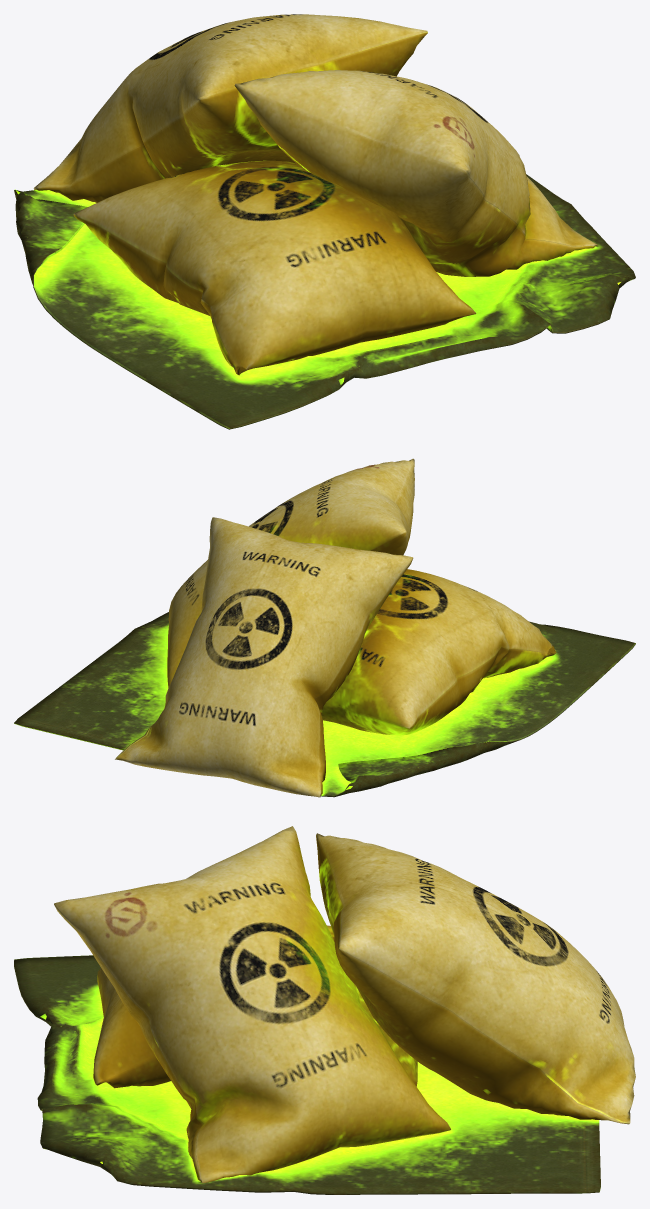
The model's file is toxic_waste.glb.
The picture shows the model from 3 angles, top to bottom: view 1: azimuth 30°, elevation 25°; view 2: azimuth 150°, elevation 25°; view 3: azimuth 270°, elevation 25°; orthographic projection. The views are drawn at different scales.
Visible parts, largest first — view 1: Object_2; view 2: Object_2; view 3: Object_2.
Part boxes in pixels (x1,y1,x2,y2): Object_2: (14, 14, 635, 429); Object_2: (14, 458, 635, 797); Object_2: (14, 826, 635, 1194).
Bounding box in the file's own units: 3.95 × 1.59 × 4.25.
Materials: 2 (2 with a texture image).
